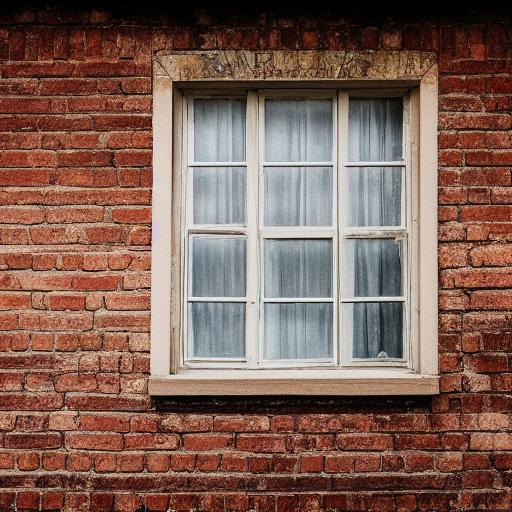Window: (143, 53, 446, 404)
